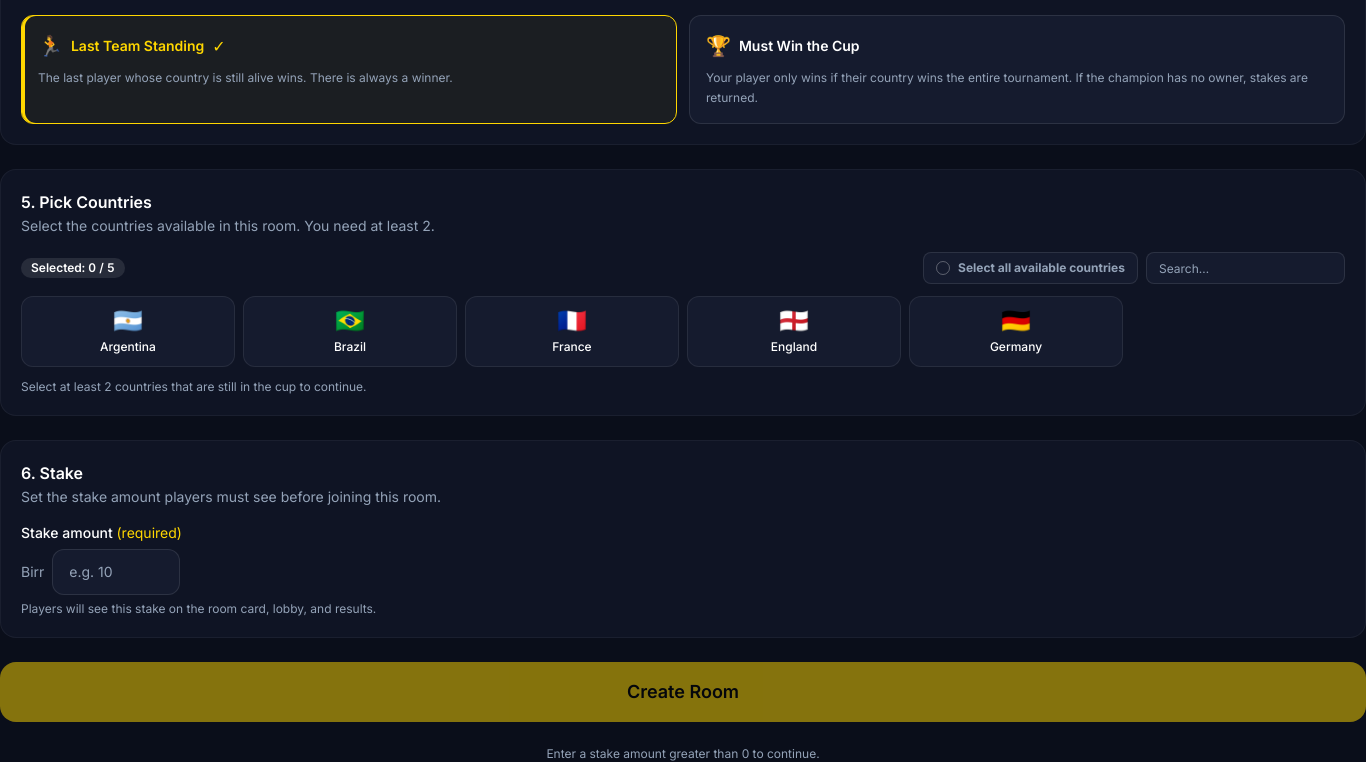
CreateRoomForm › requires a host country when player choice is selected and the host is playing
(page scrolled)
In the number field labelled "Stake amount (required)": (116, 572) [52,549,180,595], type "10"
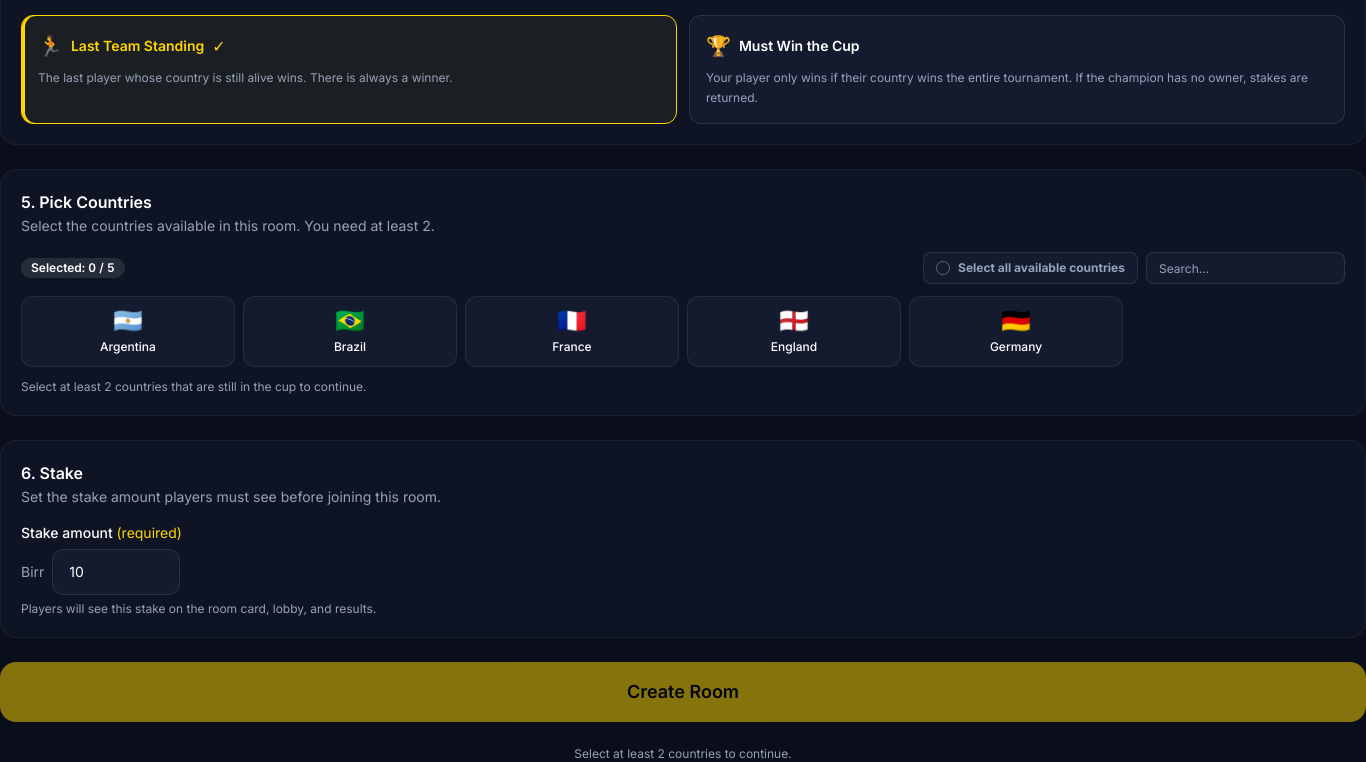
Click the checkbox with test id "country-card-ARG": (128, 332) [21,296,235,367]
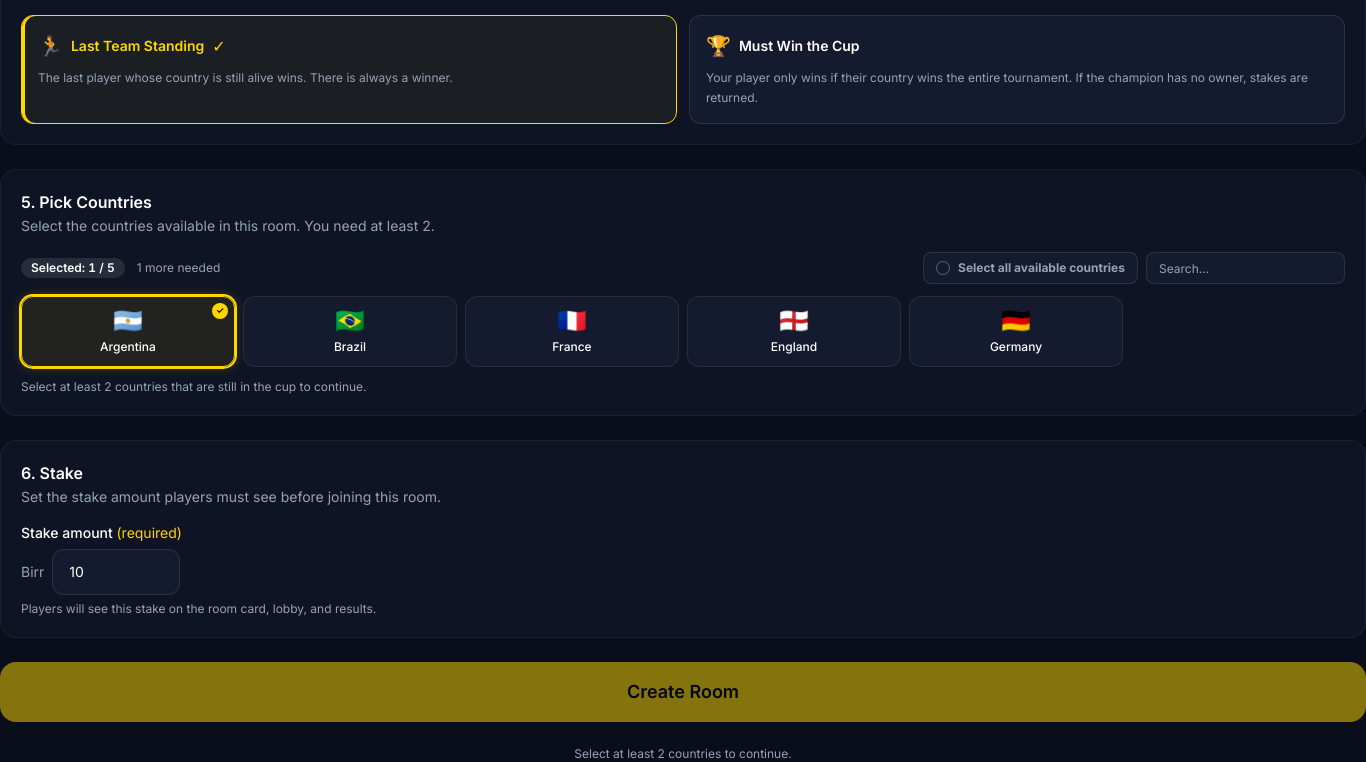
Click the checkbox labelled "🇧🇷 Brazil": (350, 332) [243,296,457,367]
(page scrolled)
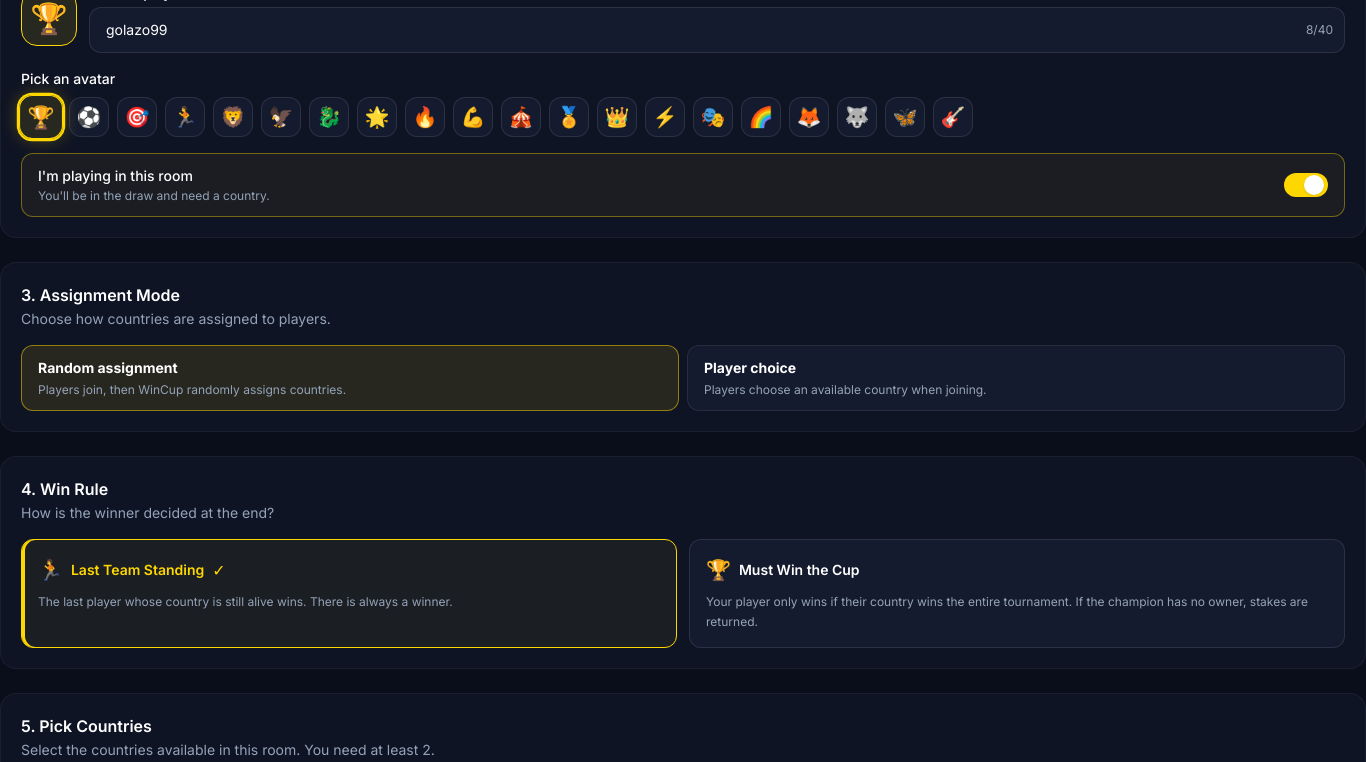
Click the button "Player choice": (750, 368) [687,345,1345,411]
(page scrolled)
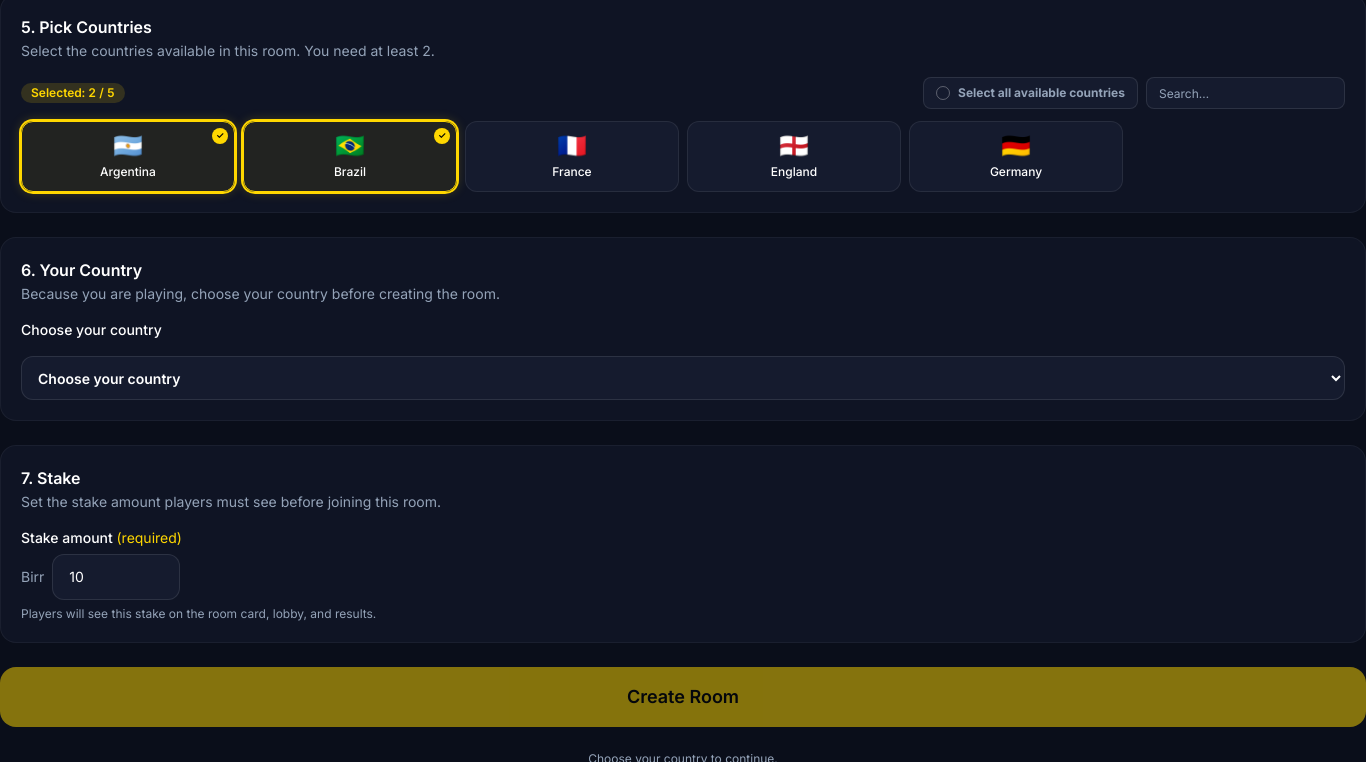
Expected: the button with test id "create-room-submit" is disabled, [0,667,1365,727]
Select "🇦🇷 Argentina" in the dropdown labelled "Choose your country": (683, 378) [21,356,1345,400]
(page scrolled)
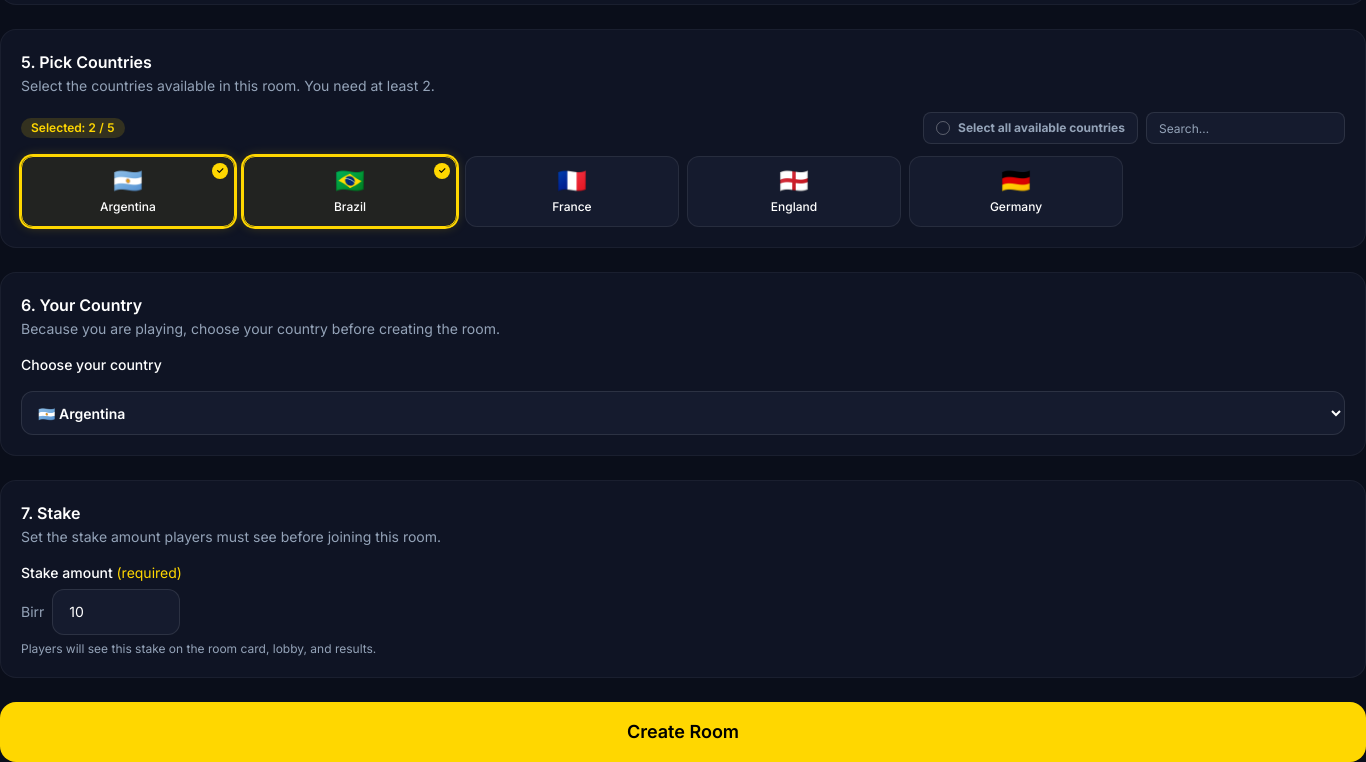
Expected: the button with test id "create-room-submit" is enabled, [0,702,1365,761]
